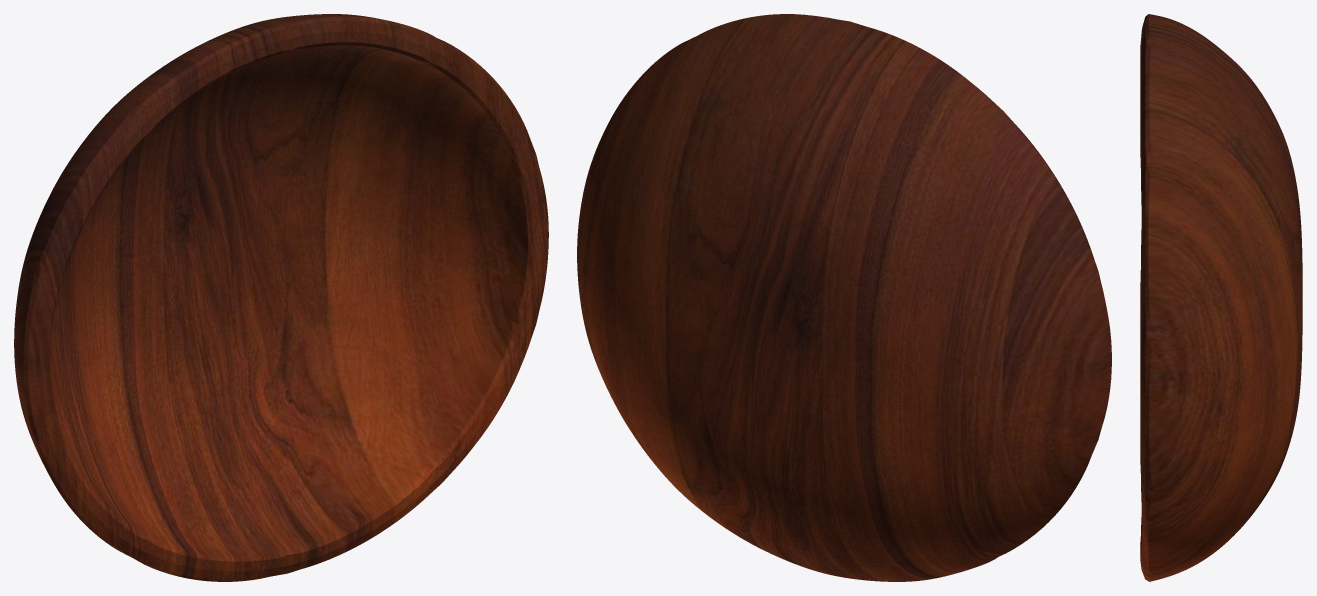
Rendered from wood bowl 2.obj.
The picture shows the model from 3 angles, left to right: view 1: azimuth 30°, elevation 25°; view 2: azimuth 150°, elevation 25°; view 3: azimuth 270°, elevation 25°; orthographic projection. The views are drawn at different scales.
Parts seen in each view (by area): view 1: Object.1; view 2: Object.1; view 3: Object.1.
Boxes of the visible parts, x1,y1,x2,y2 form: Object.1: (14,14,548,581); Object.1: (577,14,1111,581); Object.1: (1140,14,1302,581).
Bounding box in the file's own units: 4786 × 4771 × 1368.
Materials: 1 (1 with a texture image).
